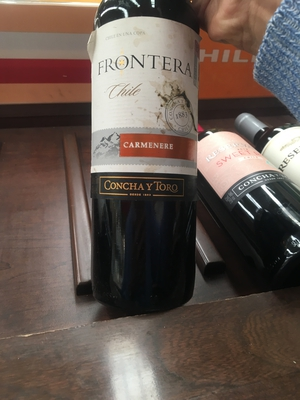frontera carmenere: (82, 11, 229, 297)
